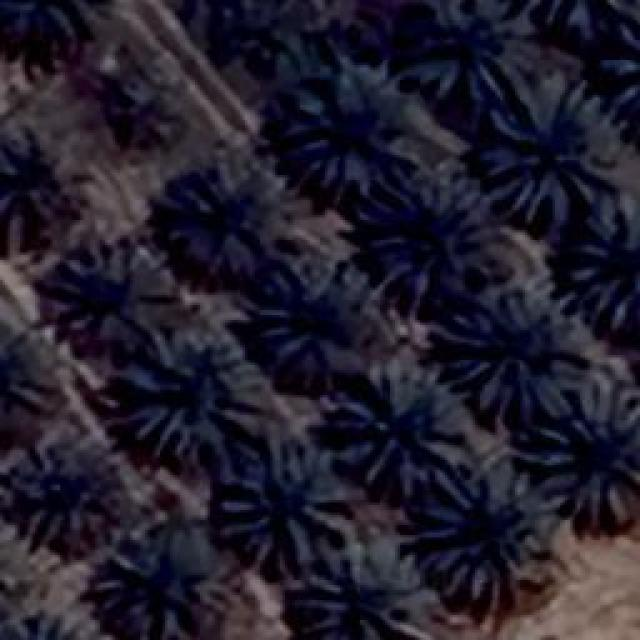PalmTree: (282, 55, 428, 200), (334, 360, 478, 500), (117, 328, 265, 462), (480, 85, 612, 225), (215, 442, 350, 578), (520, 372, 638, 522), (129, 17, 575, 55), (415, 475, 543, 603), (90, 530, 228, 635), (370, 180, 490, 298), (412, 2, 530, 100), (10, 454, 125, 548), (62, 268, 188, 348), (301, 562, 429, 640), (0, 140, 80, 258), (557, 216, 640, 328), (272, 272, 368, 368), (172, 175, 280, 260), (458, 302, 550, 398), (0, 0, 120, 62), (0, 327, 52, 457), (70, 55, 148, 118), (606, 14, 640, 135), (0, 611, 94, 640), (0, 504, 22, 616)
